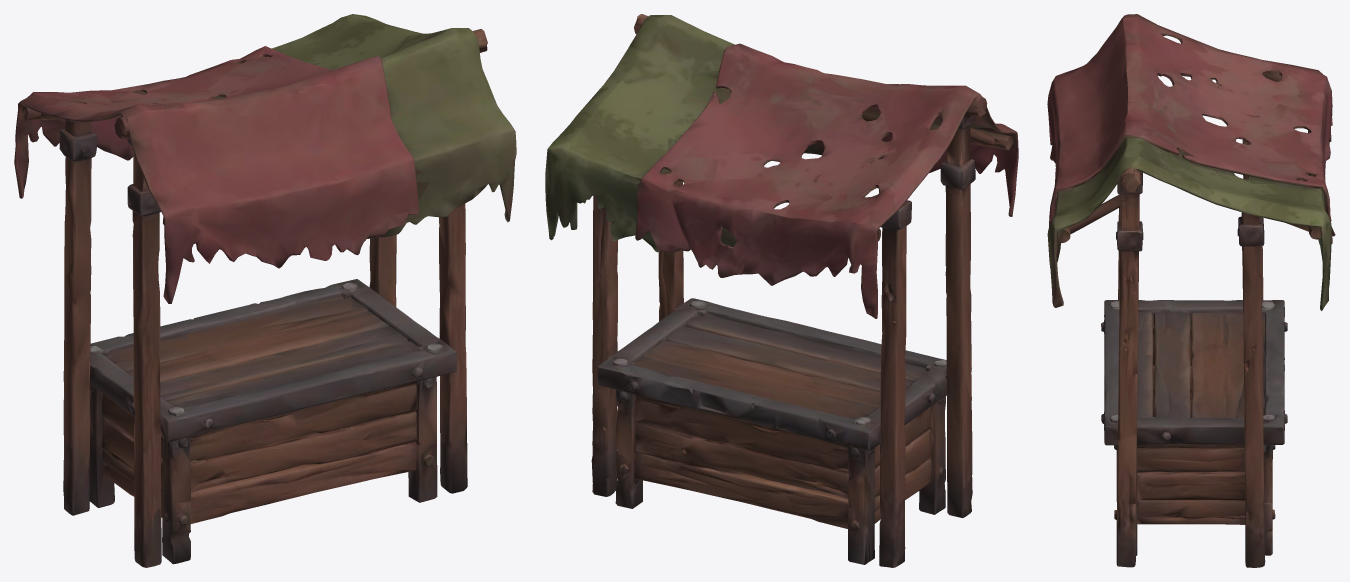
The model's file is market_stall_c_idle.glb.
3 renders of one model, left to right at view 1: azimuth 30°, elevation 25°; view 2: azimuth 150°, elevation 25°; view 3: azimuth 270°, elevation 25°, orthographic. The views are drawn at different scales.
Parts seen in each view (by area): view 1: tripo_node_f20d0542-e6b5-427d-a811-7ffd9ef07c23; view 2: tripo_node_f20d0542-e6b5-427d-a811-7ffd9ef07c23; view 3: tripo_node_f20d0542-e6b5-427d-a811-7ffd9ef07c23.
Part boxes in pixels (x1=…): tripo_node_f20d0542-e6b5-427d-a811-7ffd9ef07c23: x1=14, y1=14, x2=516, y2=567; tripo_node_f20d0542-e6b5-427d-a811-7ffd9ef07c23: x1=545, y1=14, x2=1018, y2=567; tripo_node_f20d0542-e6b5-427d-a811-7ffd9ef07c23: x1=1047, y1=14, x2=1335, y2=567.
Size of the model in its own units: 1.92 by 2.3 by 1.45.
1 material, 1 textured.
